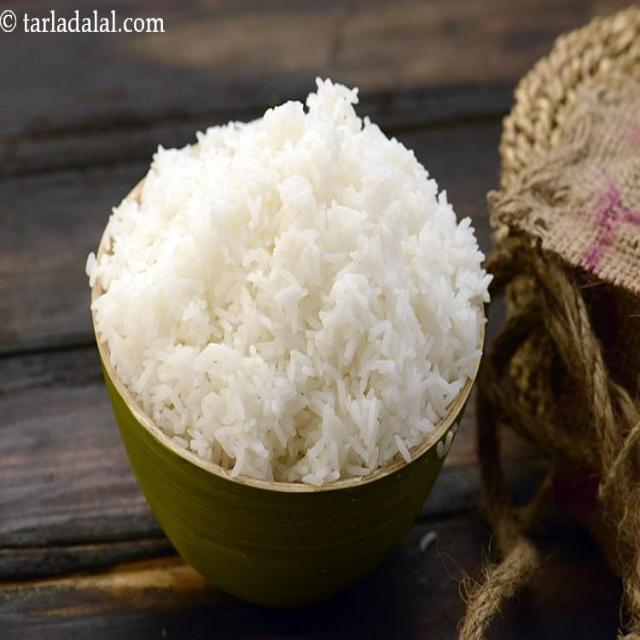rice: (108, 77, 479, 479)
